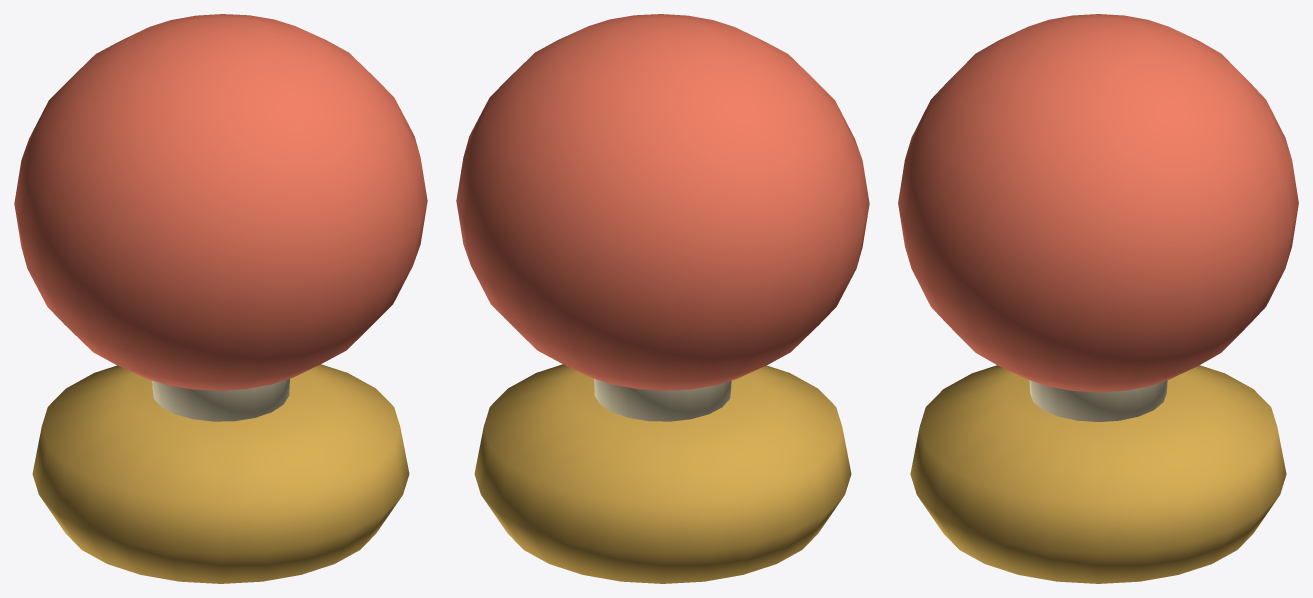
Rendered from SiphonCrown.fbx.
3 renders of one model, left to right at view 1: azimuth 30°, elevation 25°; view 2: azimuth 150°, elevation 25°; view 3: azimuth 270°, elevation 25°, orthographic.
Parts seen in each view (by area): view 1: SiphonCrown_Visual; view 2: SiphonCrown_Visual; view 3: SiphonCrown_Visual.
Part boxes in pixels (<box>): SiphonCrown_Visual: <box>14,14,427,583</box>; SiphonCrown_Visual: <box>456,14,869,583</box>; SiphonCrown_Visual: <box>898,14,1298,583</box>.
Size of the model in its own units: 0.135 by 0.172 by 0.13.
